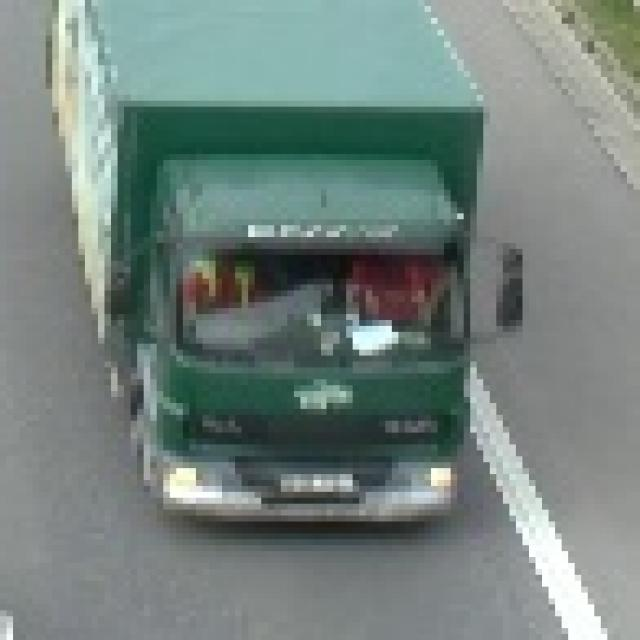Truck: (39, 0, 515, 521)
